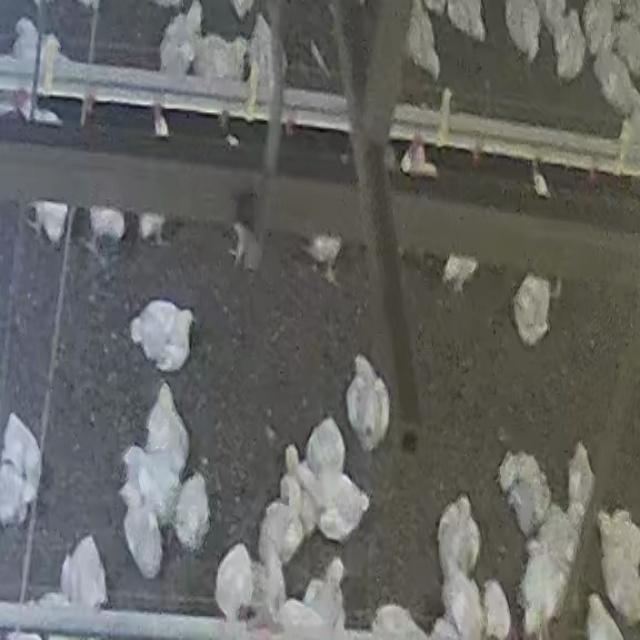chicken: (519, 531, 569, 638), (0, 411, 43, 526), (497, 449, 550, 537), (302, 470, 372, 535), (130, 304, 194, 371), (436, 495, 482, 584), (138, 381, 185, 468), (120, 484, 165, 574), (304, 552, 358, 626), (348, 354, 390, 447), (214, 542, 256, 628), (59, 535, 109, 607), (590, 40, 638, 113), (593, 544, 639, 620), (258, 497, 304, 573), (533, 508, 578, 585), (124, 448, 174, 516), (272, 449, 312, 534), (495, 0, 540, 72), (174, 471, 211, 553), (244, 12, 284, 84), (550, 9, 587, 82), (258, 538, 289, 624), (514, 276, 552, 344), (201, 28, 251, 78), (158, 16, 198, 78), (566, 443, 596, 525), (596, 508, 640, 562)
